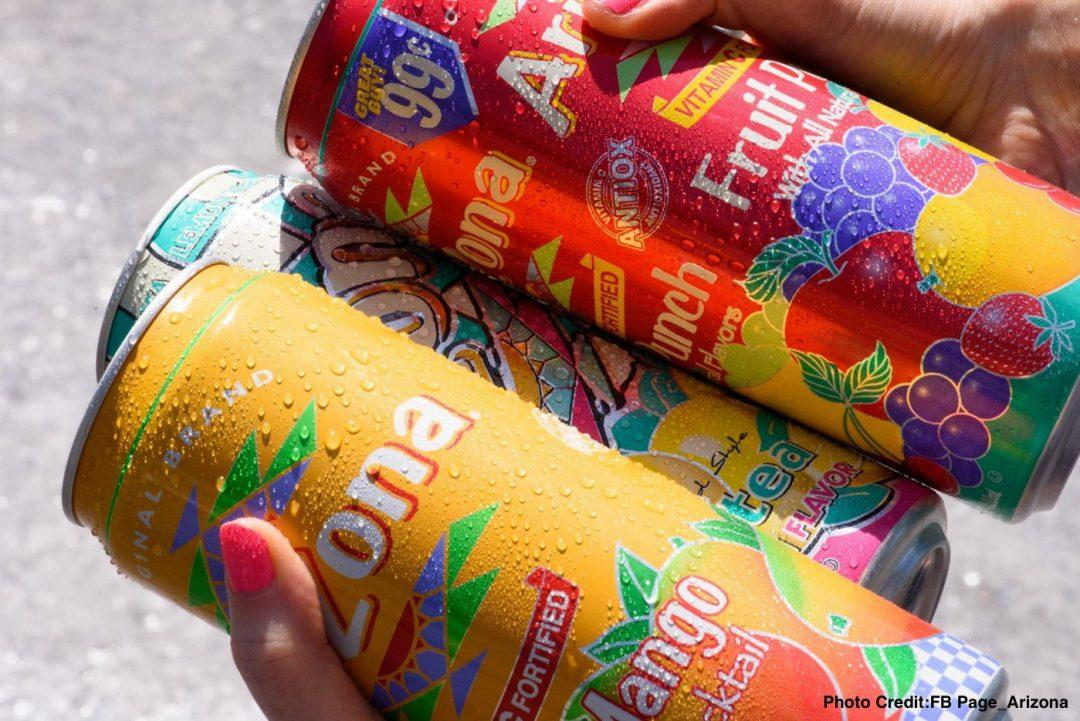metal: (49, 151, 1009, 721), (274, 0, 1080, 518)
